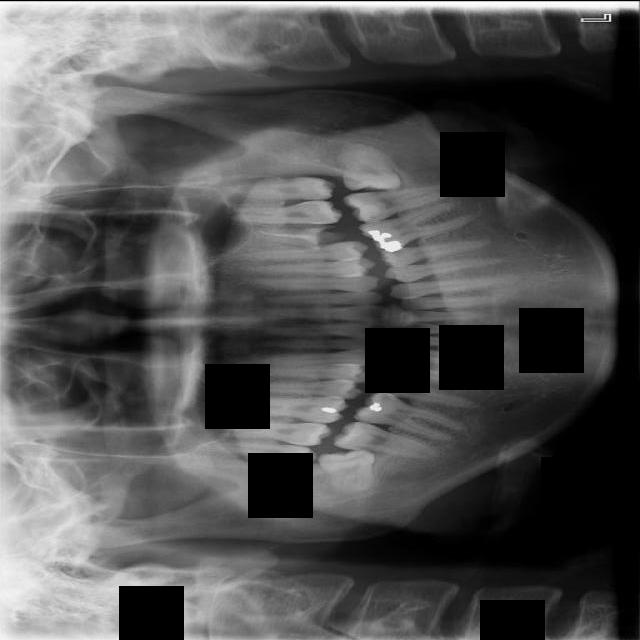3M ESPE Implant: (204, 438, 318, 467)
52: (349, 378, 412, 439), (356, 203, 416, 263), (294, 393, 350, 425), (371, 372, 412, 399), (318, 222, 348, 253)
73: (247, 211, 322, 249), (541, 47, 564, 51)
BioHorizons Implant: (230, 199, 342, 226)
BioLife Implant: (220, 176, 337, 201)
Biomet 3i Implant: (337, 142, 402, 191)
Blue Sky Bio Implant: (341, 180, 453, 225)
Caries: (200, 420, 334, 445)
Implant: (333, 418, 442, 460)
Keystone Dental Implant: (317, 446, 379, 496)
